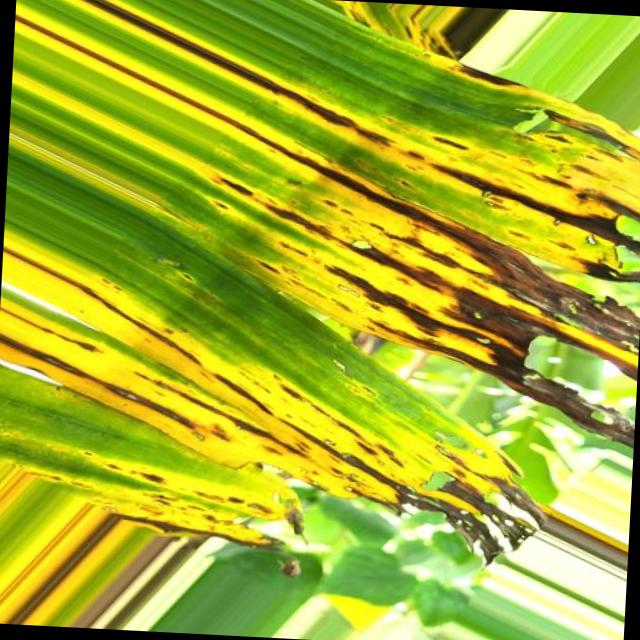Banana_Black_Sigatoka: (16, 231, 548, 580), (305, 13, 640, 482), (66, 0, 325, 172)
